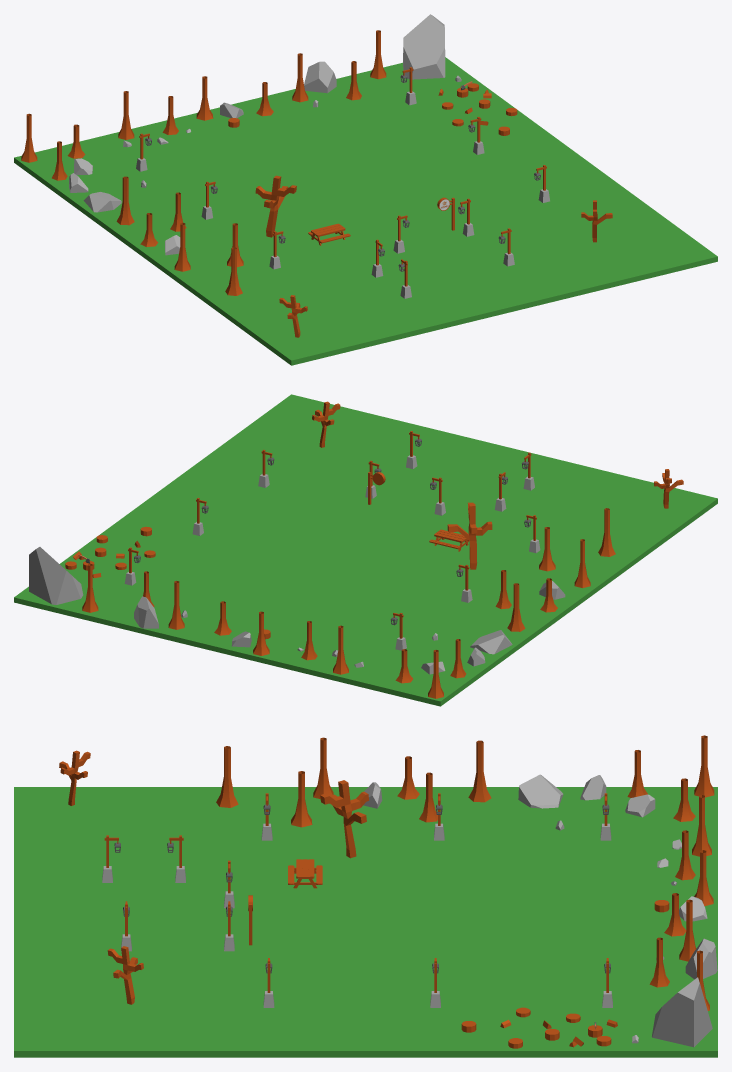
File: world.glb
The picture shows the model from 3 angles, top to bottom: view 1: azimuth 30°, elevation 25°; view 2: azimuth 150°, elevation 25°; view 3: azimuth 270°, elevation 25°; orthographic projection. The views are drawn at different scales.
Visible parts, largest first — view 1: Cube.055, pine-tree, Cube.261, tree.003, Cube.015, Cube.256, Cube.269, Cube.018, Cube.258; view 2: Cube.055, pine-tree, Cube.261, tree.003, Cube.015, Cube.256, Cube.258, Cube.269, Cube.018; view 3: Cube.055, pine-tree, tree.003, Cube.261, Cube.015, Cube.256, Cube.258, picnic table_table_0, Cube.269, Cube.018, Cube.250.
Boxes of the visible parts, x1=… form: Cube.055: x1=14, y1=57, x2=717, y2=365; pine-tree: x1=21, y1=30, x2=386, y2=295; Cube.261: x1=403, y1=14, x2=445, y2=79; tree.003: x1=255, y1=175, x2=612, y2=337; Cube.015: x1=136, y1=91, x2=549, y2=298; Cube.256: x1=139, y1=67, x2=546, y2=286; Cube.269: x1=304, y1=61, x2=336, y2=93; Cube.018: x1=145, y1=75, x2=540, y2=271; Cube.258: x1=83, y1=192, x2=121, y2=212; Cube.055: x1=14, y1=394, x2=717, y2=706; pine-tree: x1=82, y1=508, x2=615, y2=698; Cube.261: x1=29, y1=547, x2=83, y2=604; tree.003: x1=312, y1=401, x2=683, y2=569; Cube.015: x1=124, y1=455, x2=540, y2=650; Cube.256: x1=128, y1=431, x2=536, y2=638; Cube.258: x1=470, y1=630, x2=512, y2=654; Cube.269: x1=134, y1=596, x2=158, y2=628; Cube.018: x1=134, y1=438, x2=531, y2=625; Cube.055: x1=14, y1=787, x2=717, y2=1057; pine-tree: x1=216, y1=735, x2=714, y2=1010; tree.003: x1=59, y1=750, x2=368, y2=1004; Cube.261: x1=652, y1=977, x2=712, y2=1047; Cube.015: x1=102, y1=823, x2=612, y2=1007; Cube.256: x1=104, y1=793, x2=608, y2=992; Cube.258: x1=518, y1=774, x2=563, y2=808; picnic table_table_0: x1=288, y1=859, x2=322, y2=888; Cube.269: x1=685, y1=938, x2=717, y2=979; Cube.018: x1=114, y1=804, x2=610, y2=973; Cube.250: x1=625, y1=794, x2=655, y2=817.
Size of the model in its own units: 17.74 by 2.6 by 19.98.
16 materials, 1 textured.
